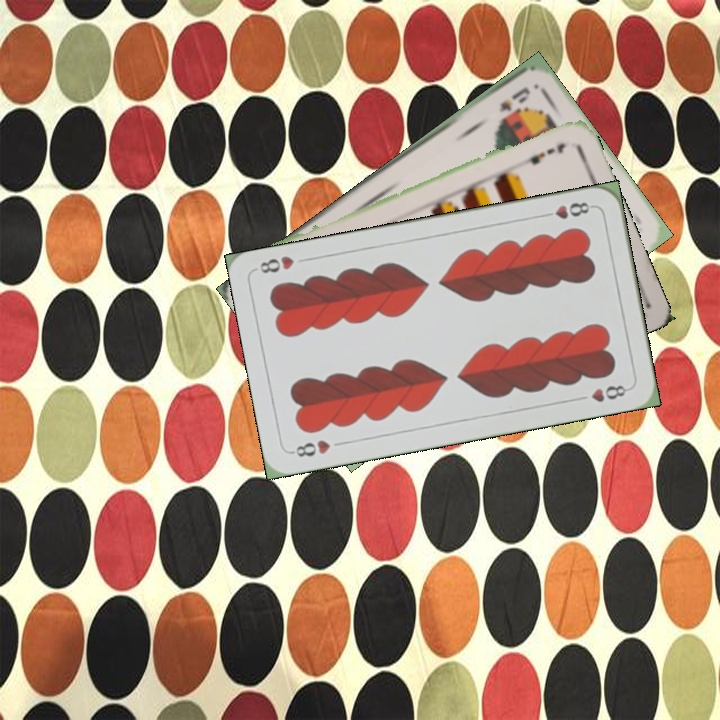E7: (516, 139, 569, 169)
H8: (538, 198, 596, 222), (287, 436, 333, 460)
SO: (495, 82, 533, 115)
